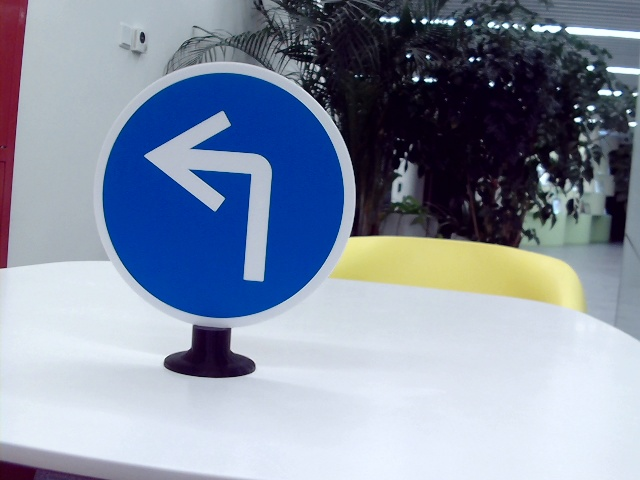turn_left: (150, 102, 289, 282)
